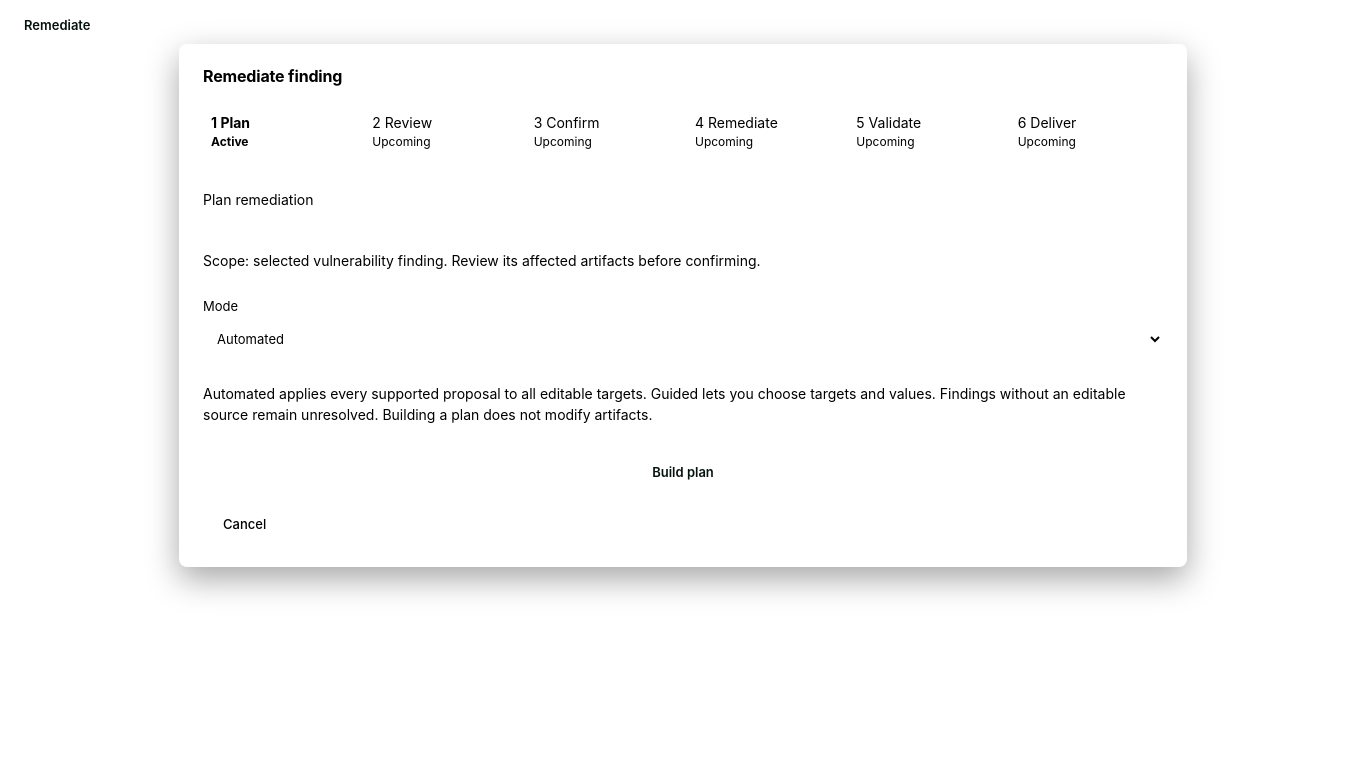
Test case: preserves vulnerability finding scope through planning and confirmation
The width and height of the screenshot is (1366, 768).
Click the button "Build plan". click: point(683, 472)
box: [207,454,1159,490]
(page scrolled)
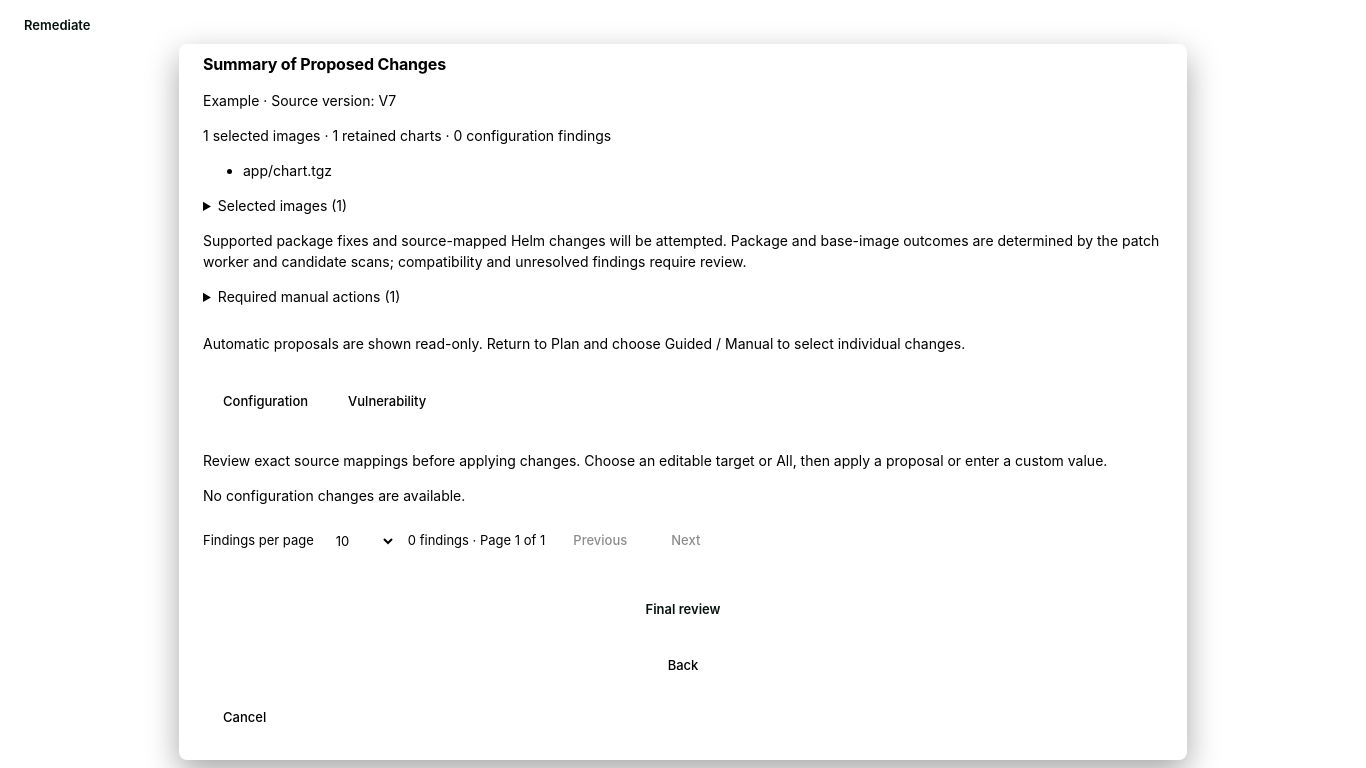
Click the button "Final review". click: point(683, 610)
box: [207,592,1159,628]
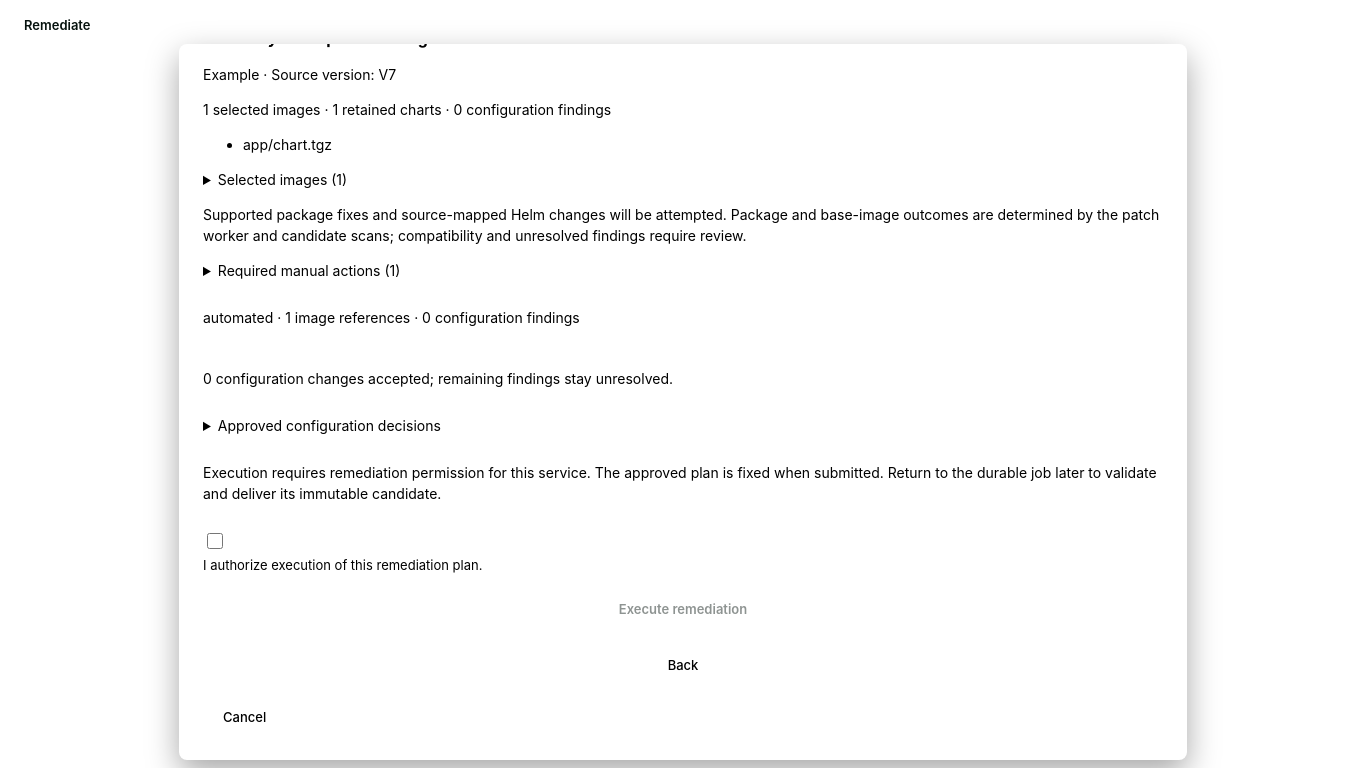
Now the button "Execute remediation" is disabled, box [207,592,1159,628]
